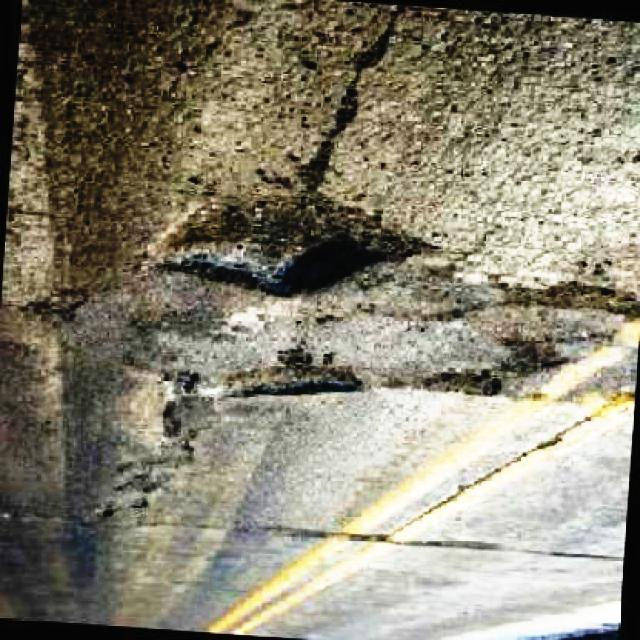pothole: (161, 174, 437, 295), (89, 362, 202, 524), (500, 262, 640, 326), (224, 354, 364, 401), (425, 360, 512, 398), (503, 334, 563, 377)
